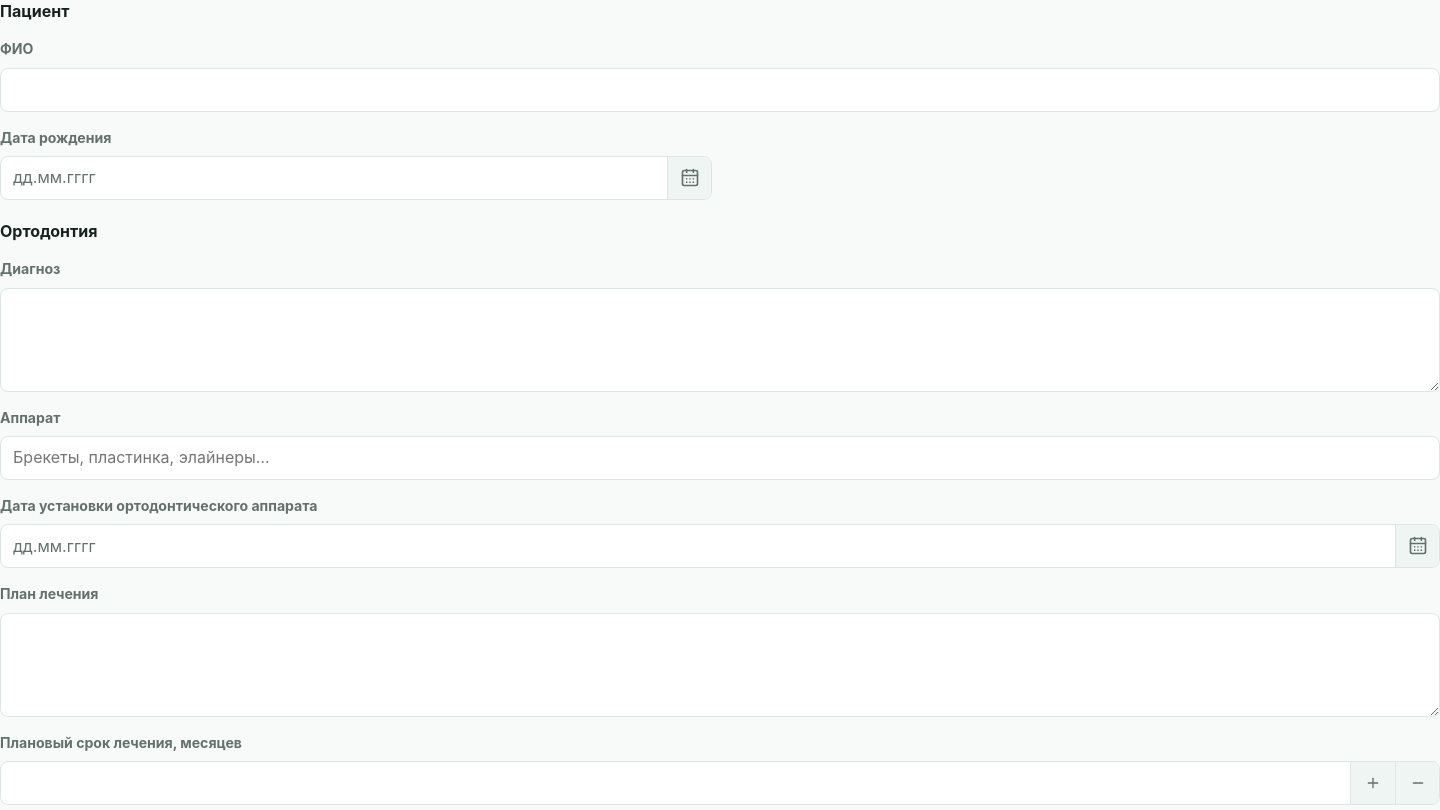
Test: PatientForm › rejects invalid planned duration -2
The width and height of the screenshot is (1440, 810).
In the field labelled "ФИО": (720, 90) [0,68,1439,112], type "Тестовый пациент"
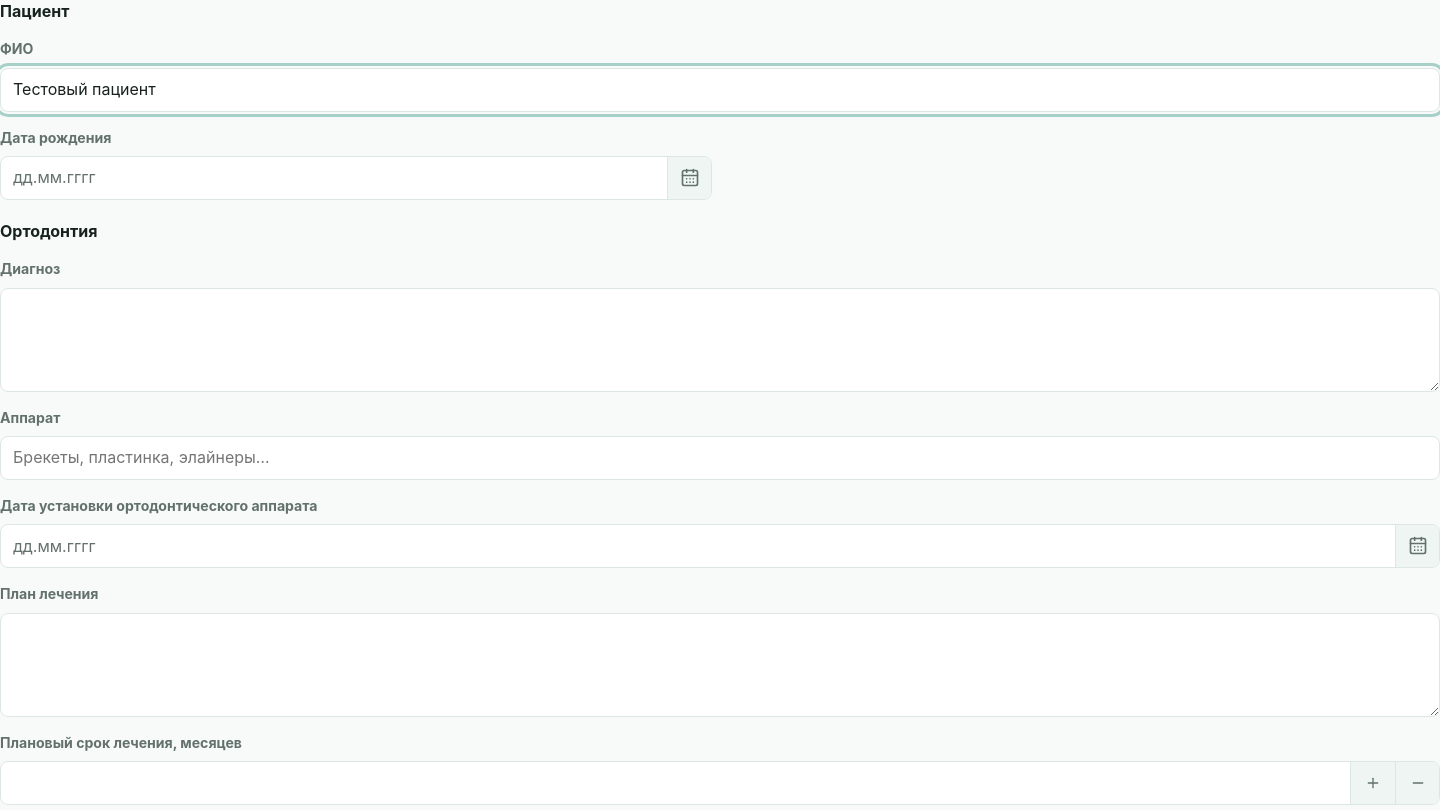
In the field labelled "Плановый срок лечения, месяцев": (676, 783) [1,762,1350,804], type "-2"
(page scrolled)
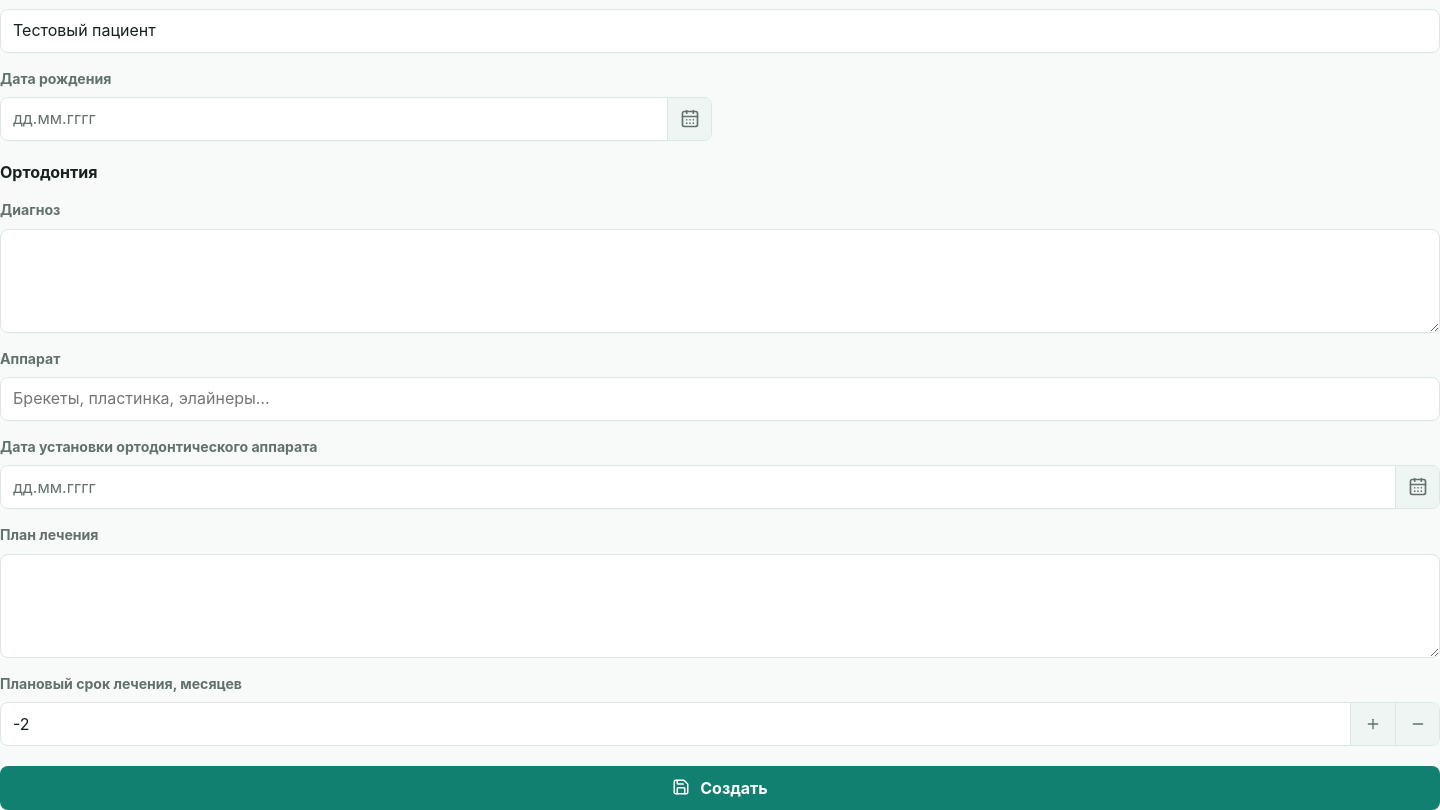
Click the button "Создать": (720, 788) [0,766,1439,809]
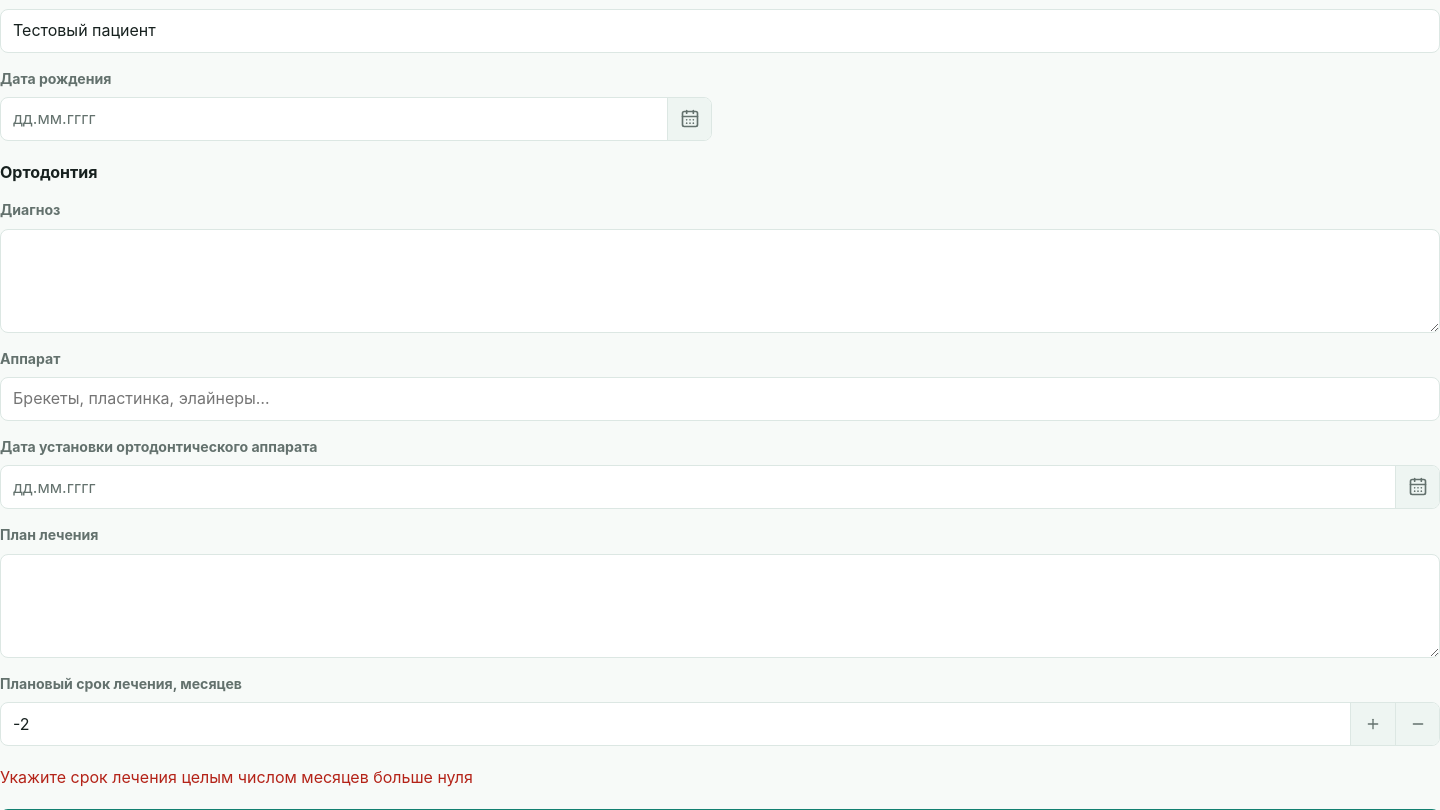
Expected: the message shows "целым числом месяцев больше нуля", [0,767,473,787]
